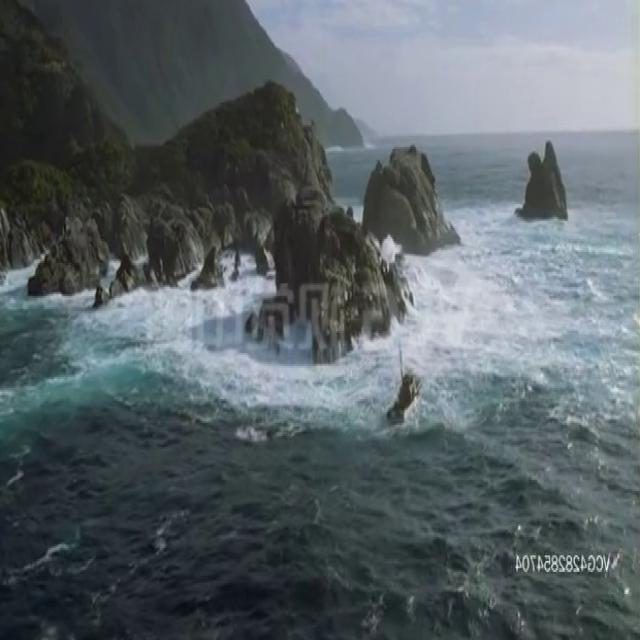houseboat: (386, 357, 425, 423)
